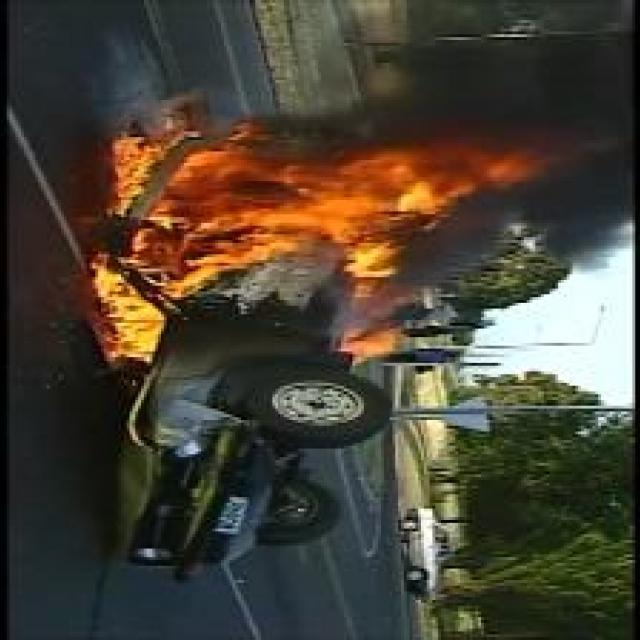Fire: (86, 115, 563, 372)
